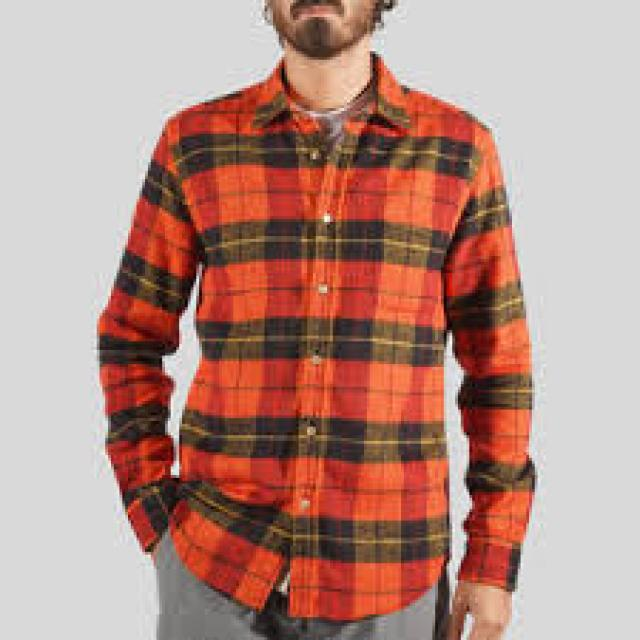plaid: (90, 64, 545, 618)
